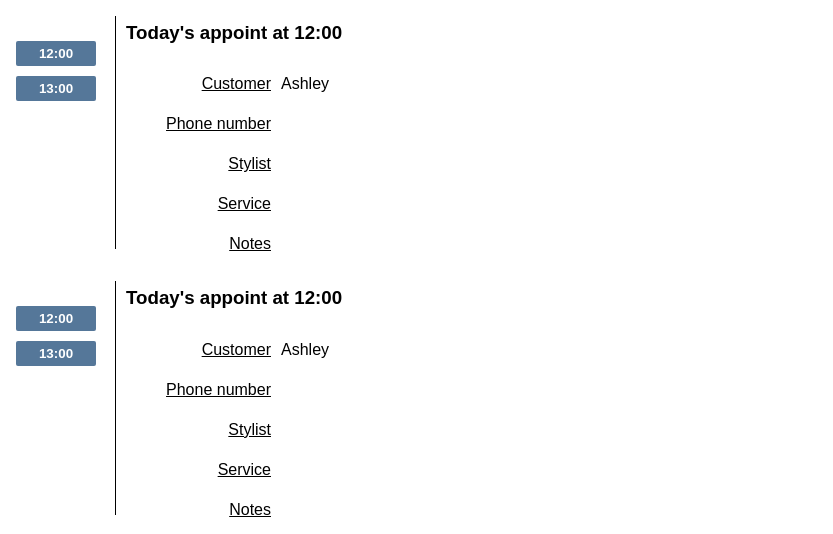
Test: AppointmentsDayView › multiple appointments are passed › renders another appointment when selected
This screenshot has width=833, height=534.
Click the 4th button with test id "time-button".
click(56, 354)  # box [16, 341, 96, 366]
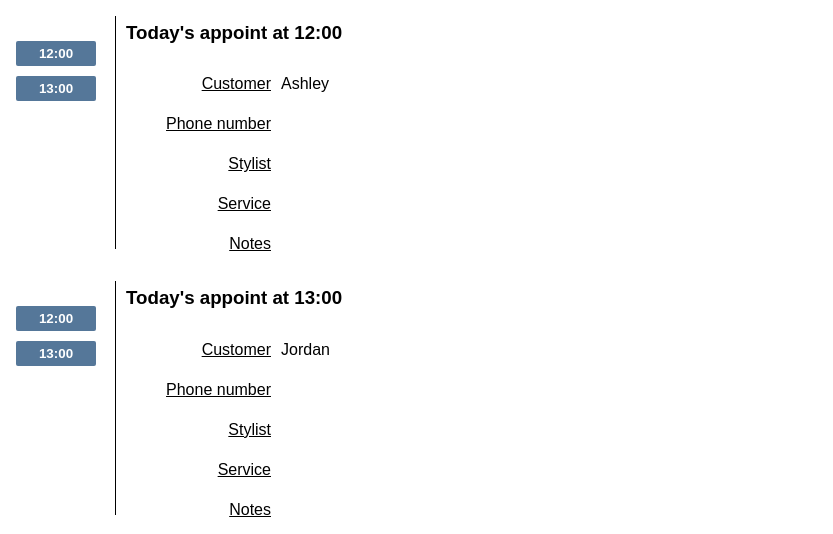
Now the text "Jordan" is shown, box [276, 331, 816, 371]
